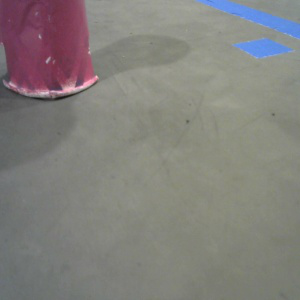middle: (1, 1, 98, 98)
